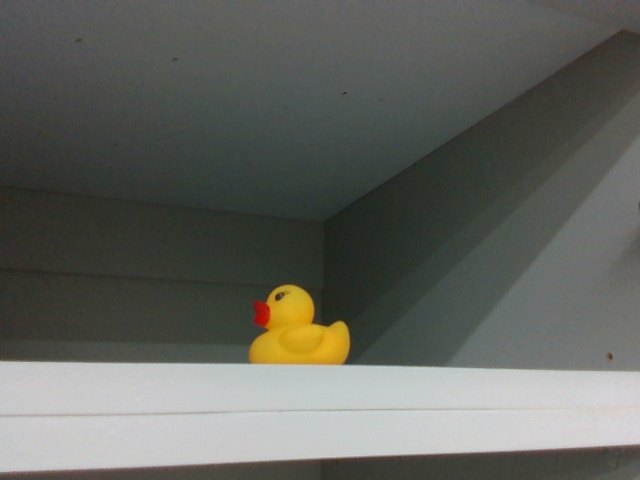duck: (245, 282, 354, 368)
